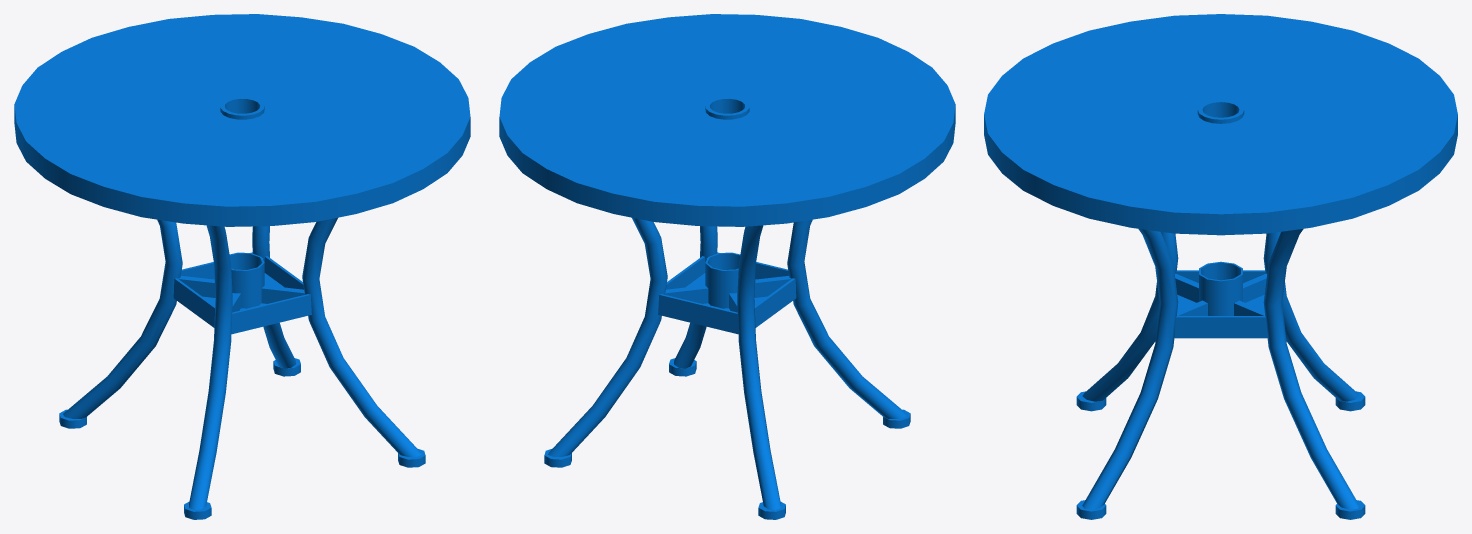
File: SM_cafetable.fbx
The picture shows the model from 3 angles, left to right: view 1: azimuth 30°, elevation 25°; view 2: azimuth 150°, elevation 25°; view 3: azimuth 270°, elevation 25°; orthographic projection. The views are drawn at different scales.
Parts seen in each view (by area): view 1: parasol_table; view 2: parasol_table; view 3: parasol_table.
Boxes of the visible parts, x1,y1,x2,y2 form: parasol_table: (14, 14, 470, 519); parasol_table: (499, 14, 955, 519); parasol_table: (984, 14, 1457, 519).
Bounding box in the file's own units: 102 × 83 × 102.
